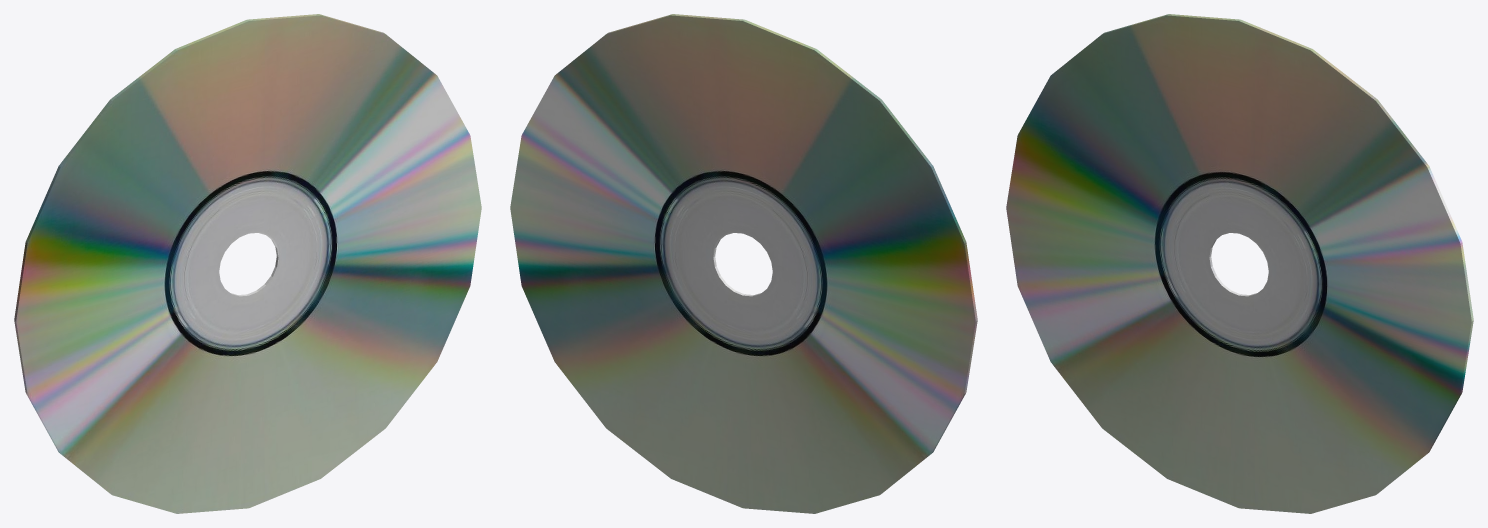
The picture shows the model from 3 angles, left to right: view 1: azimuth 30°, elevation 25°; view 2: azimuth 150°, elevation 25°; view 3: azimuth 330°, elevation 25°; orthographic projection.
Visible parts, largest first — view 1: Node; view 2: Node; view 3: Node.
Part boxes in pixels (x1,y1,x2,y2): Node: (14,14,481,513); Node: (510,14,977,513); Node: (1006,14,1473,513).
Bounding box in the file's own units: 6.14 × 6.14 × 0.045.
1 material, 1 textured.
